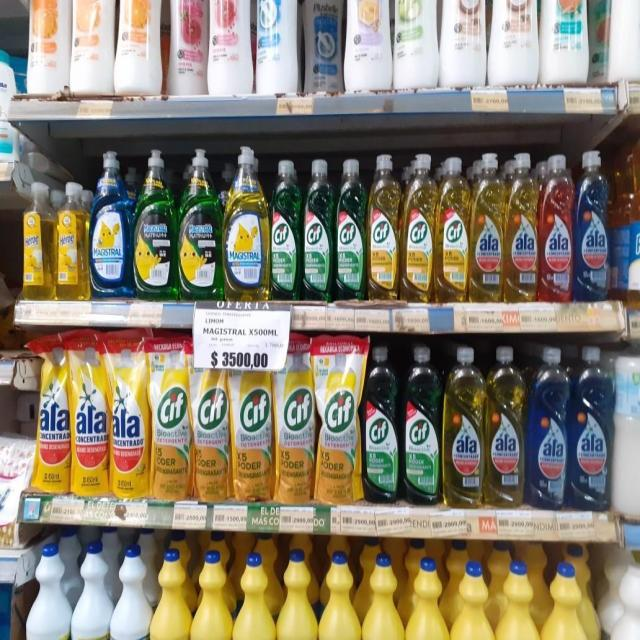ala_conc_amarillo: (443, 345, 484, 508), (486, 345, 525, 508), (470, 152, 504, 304), (505, 152, 538, 304)
ala_conc_azul: (570, 344, 612, 512), (528, 345, 568, 510), (575, 149, 610, 303)
ala_conc_rojo: (540, 152, 574, 304)
ala_crem_blanco: (612, 340, 640, 518), (606, 570, 640, 640)
ala_sachet_amarillo: (111, 330, 149, 499), (72, 332, 108, 497), (34, 340, 70, 494)
cif_conc_bot_amarilla: (401, 153, 435, 304), (436, 154, 468, 304), (368, 154, 399, 302)
cif_conc_botella_verde: (402, 344, 441, 507), (363, 344, 399, 505), (302, 157, 334, 302), (335, 157, 366, 302), (270, 158, 301, 302)
cif_conc_sachet_amarillo: (316, 332, 361, 506), (275, 334, 315, 506), (151, 332, 191, 501), (232, 354, 273, 503), (193, 352, 230, 503)
magistral_con_amarillo: (223, 144, 269, 302)
magistral_con_azul: (90, 149, 131, 298)
